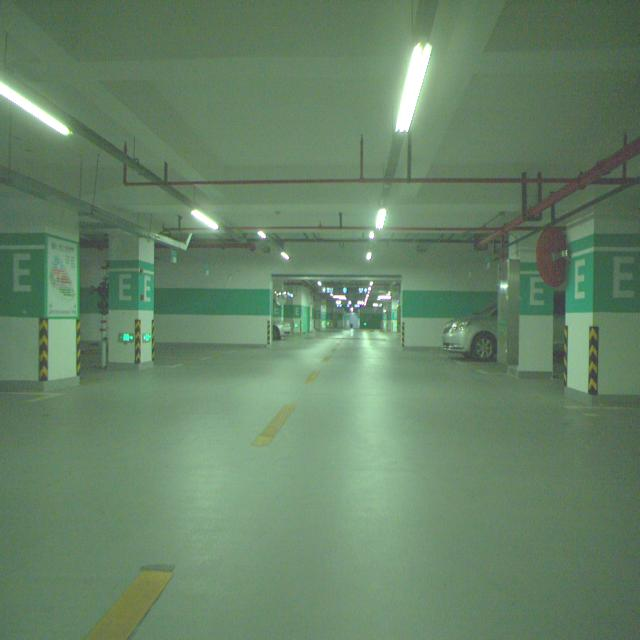pillar: (0, 188, 79, 389), (565, 205, 640, 398), (108, 230, 154, 369), (510, 232, 554, 374)
